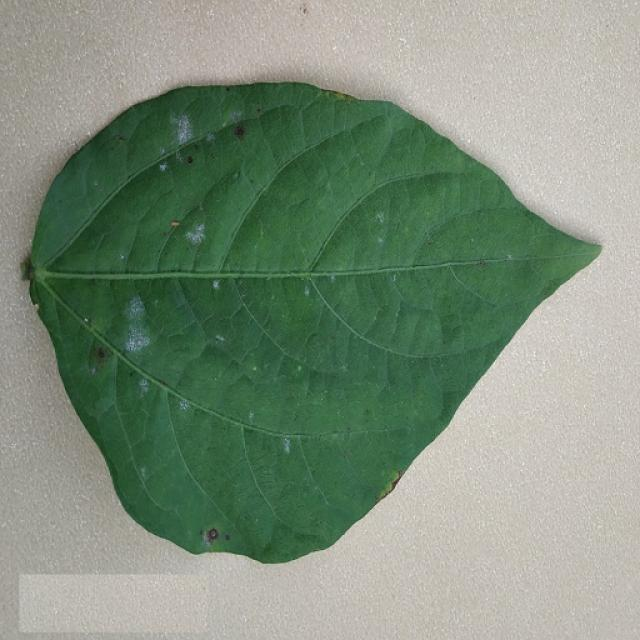Blackgram: (31, 82, 599, 562)
Powdery_Mildew: (154, 108, 233, 200), (122, 297, 152, 353), (181, 208, 210, 248), (175, 114, 194, 149), (127, 295, 146, 318), (228, 108, 242, 123), (139, 378, 149, 396), (179, 398, 189, 411), (205, 132, 216, 143), (375, 211, 385, 223), (283, 438, 290, 453), (140, 466, 148, 479), (159, 162, 167, 172), (215, 334, 225, 342), (212, 280, 220, 289), (377, 235, 384, 245), (304, 285, 310, 296), (248, 411, 254, 422), (91, 365, 97, 375), (506, 254, 514, 260), (330, 274, 336, 282), (391, 274, 397, 282), (252, 365, 258, 371), (297, 365, 302, 372), (120, 254, 125, 260), (84, 317, 89, 323)
